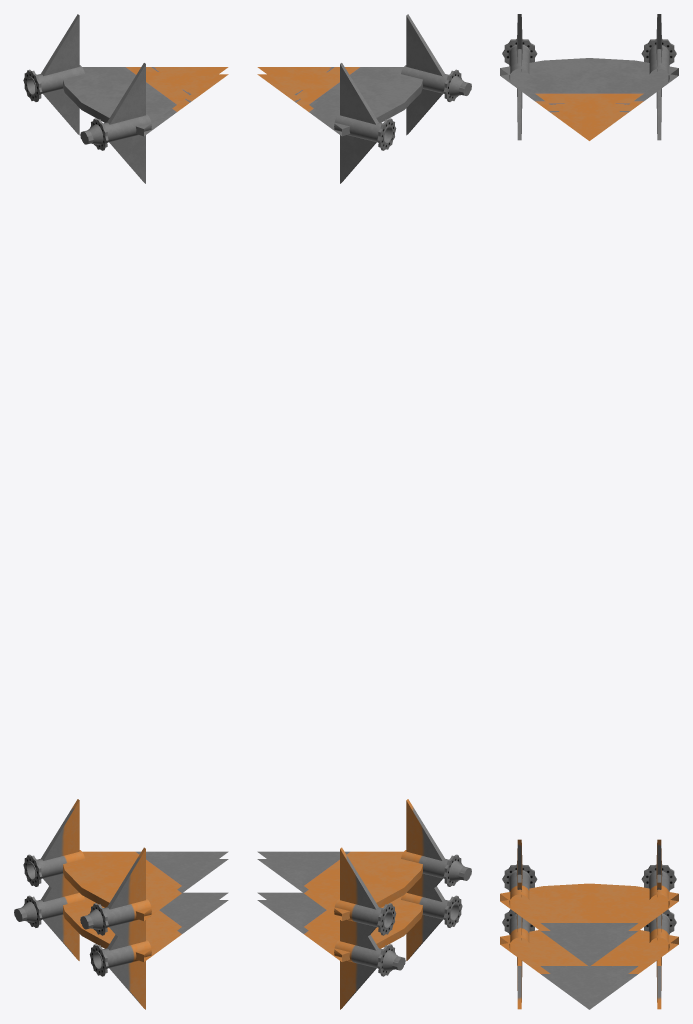
File: ksprocket.fbx
3 views of the same model, side by side, from view 1: azimuth 30°, elevation 25°; view 2: azimuth 150°, elevation 25°; view 3: azimuth 270°, elevation 25° (orthographic). The views are drawn at different scales.
Parts seen in each view (by area): view 1: Cylinder.004; view 2: Cylinder.004; view 3: Cylinder.004.
Part boxes in pixels (x1,y1,x2,y2): Cylinder.004: [14, 14, 228, 1009]; Cylinder.004: [257, 14, 471, 1009]; Cylinder.004: [500, 14, 678, 1009].
Size of the model in its own units: 618 by 3148 by 513.
